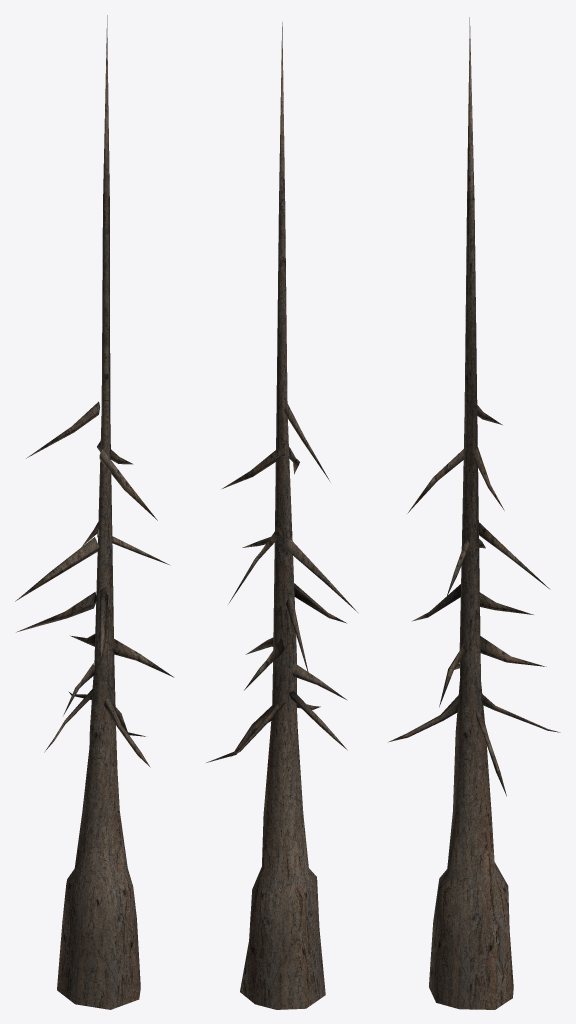
Rendered from forest_pine_02.glb.
The picture shows the model from 3 angles, left to right: view 1: azimuth 30°, elevation 25°; view 2: azimuth 150°, elevation 25°; view 3: azimuth 270°, elevation 25°; orthographic projection.
Parts seen in each view (by area): view 1: Tree_Trunk_01.002_Tree_Trunk_01_0; view 2: Tree_Trunk_01.002_Tree_Trunk_01_0; view 3: Tree_Trunk_01.002_Tree_Trunk_01_0.
Boxes of the visible parts, <box> form: Tree_Trunk_01.002_Tree_Trunk_01_0: <box>15,15,174,1009</box>; Tree_Trunk_01.002_Tree_Trunk_01_0: <box>206,22,357,1009</box>; Tree_Trunk_01.002_Tree_Trunk_01_0: <box>388,17,560,1009</box>.
Size of the model in its own units: 0.6487 by 4.2 by 0.6779.
1 material, 1 textured.
